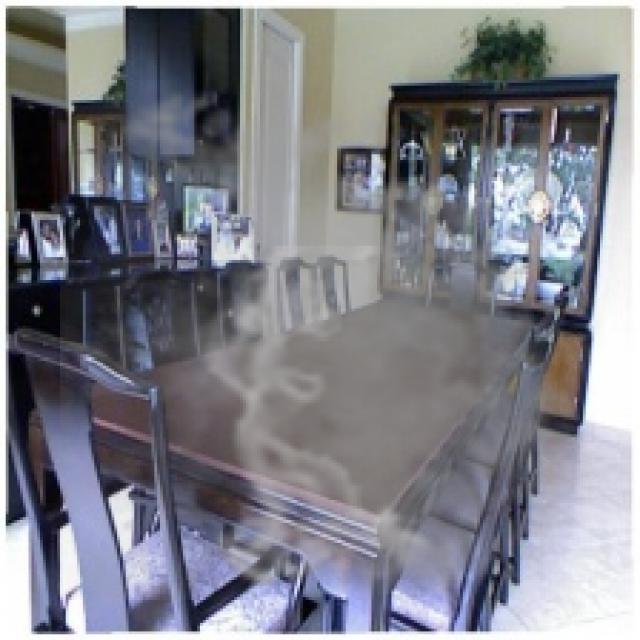smoke: (60, 74, 597, 600)
